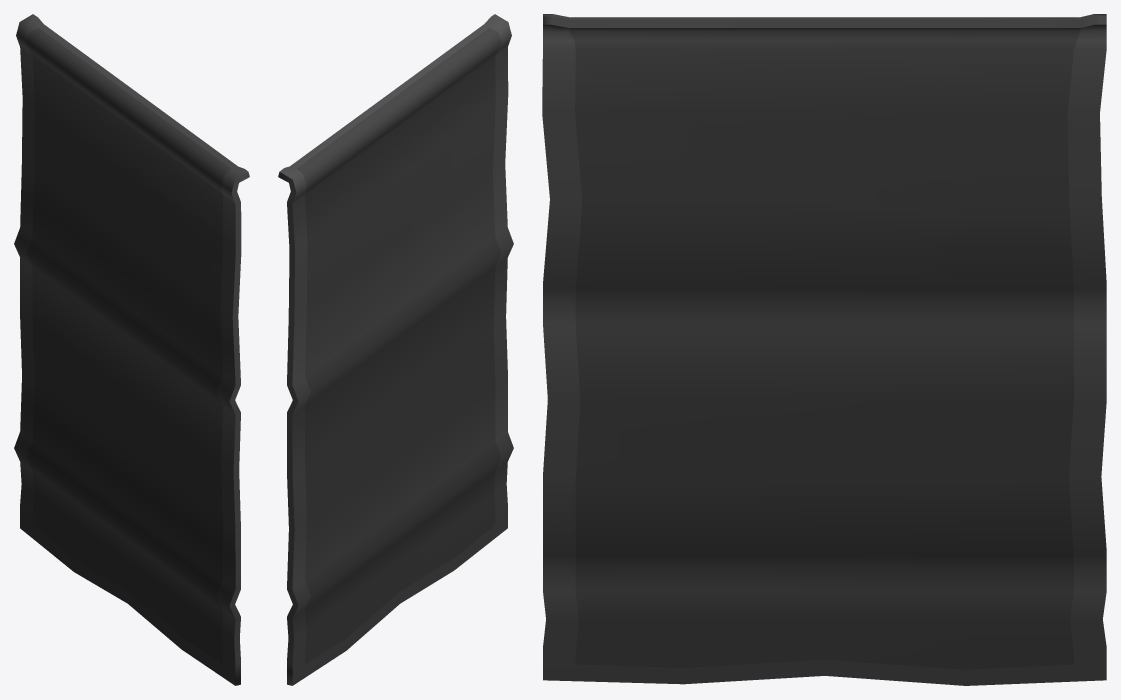
The model's file is Scaffold_sheet_1_8.fbx.
3 views of the same model, side by side, from view 1: azimuth 30°, elevation 25°; view 2: azimuth 150°, elevation 25°; view 3: azimuth 270°, elevation 25° (orthographic). The views are drawn at different scales.
Parts seen in each view (by area): view 1: Scaffold_sheet_1_8; view 2: Scaffold_sheet_1_8; view 3: Scaffold_sheet_1_8.
Boxes of the visible parts, box(x1,y1,x2,y2) form: Scaffold_sheet_1_8: box(14, 14, 249, 685); Scaffold_sheet_1_8: box(278, 14, 513, 685); Scaffold_sheet_1_8: box(542, 14, 1106, 685).
Bounding box in the file's own units: 10.1 × 242 × 184.
